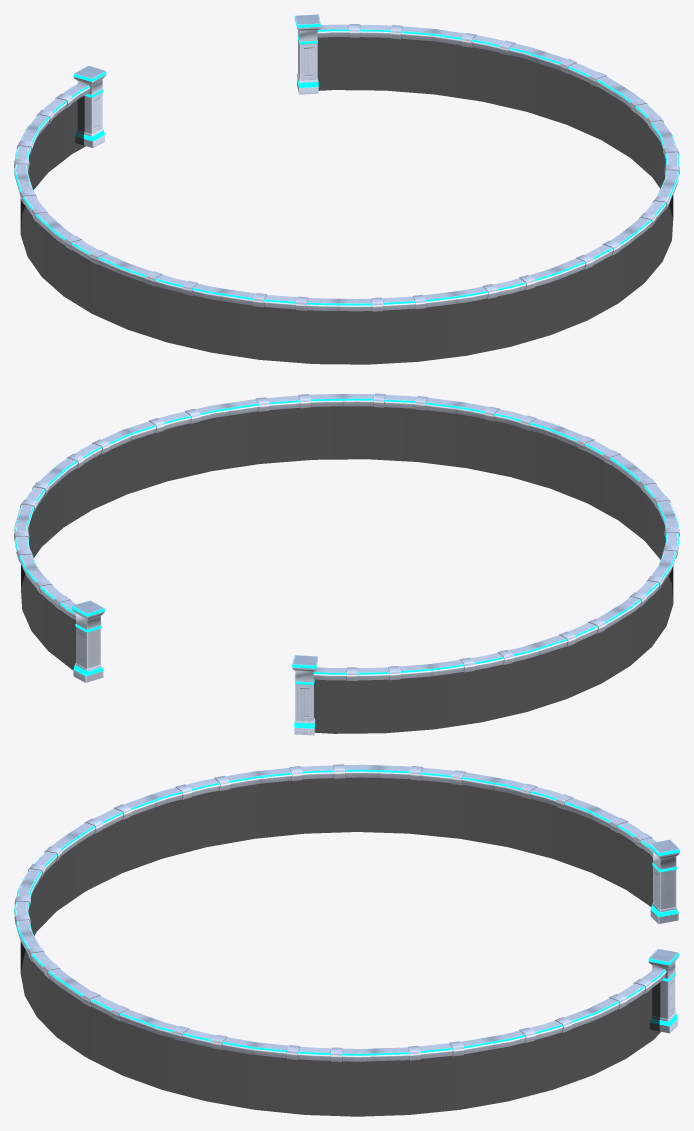
Rendered from obj_fence05.gltf.
3 renders of one model, top to bottom at view 1: azimuth 30°, elevation 25°; view 2: azimuth 150°, elevation 25°; view 3: azimuth 270°, elevation 25°, orthographic. The views are drawn at different scales.
Visible parts, largest first — view 1: obj_fence05; view 2: obj_fence05; view 3: obj_fence05.
Boxes of the visible parts, x1,y1,x2,y2 form: obj_fence05: [14, 14, 679, 364]; obj_fence05: [14, 393, 679, 735]; obj_fence05: [14, 764, 679, 1116].
Size of what is drawn, in the model's own units: 11.81 by 1.4 by 11.45.
Materials: 2 (2 with a texture image).
